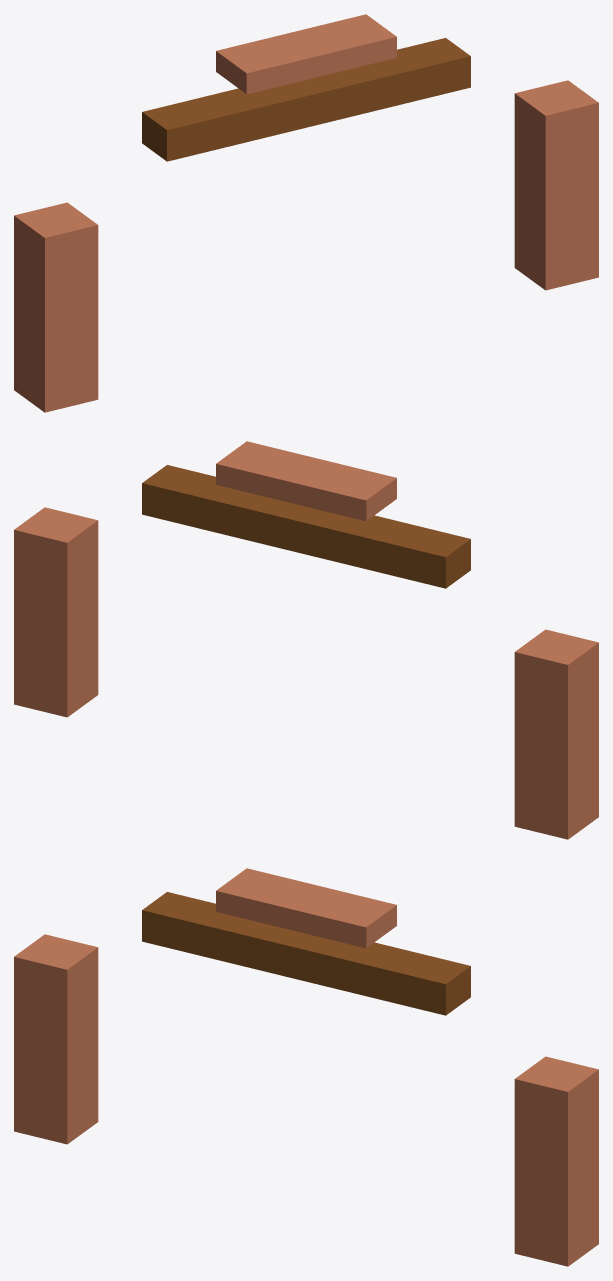
Rendered from tower_terracotta.glb.
3 views of the same model, one above another, from view 1: azimuth 30°, elevation 25°; view 2: azimuth 150°, elevation 25°; view 3: azimuth 330°, elevation 25° (orthographic).
Parts seen in each view (by area): view 1: Cube; view 2: Cube; view 3: Cube.
Part boxes in pixels (x1,y1,x2,y2): Cube: (14, 14, 598, 412); Cube: (14, 441, 598, 839); Cube: (14, 868, 598, 1266).
Size of the model in its own units: 4.32 by 2.16 by 0.416.
